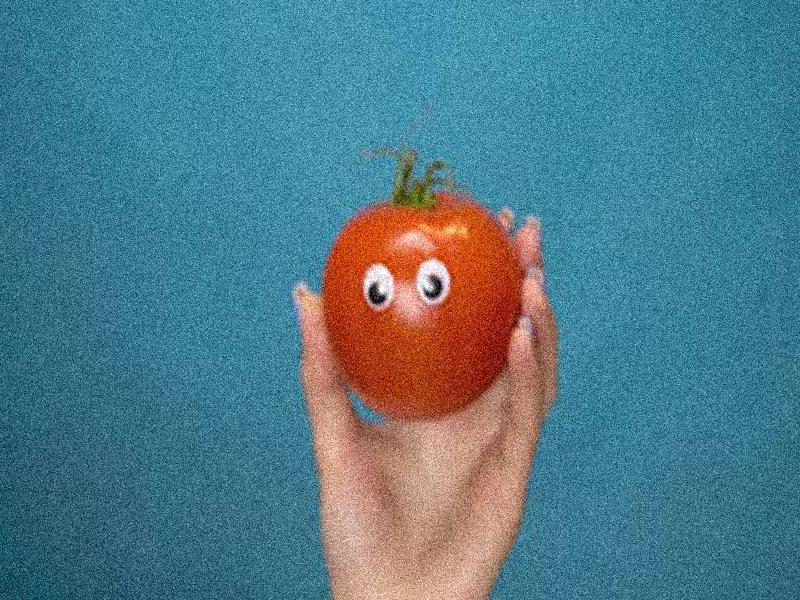Tomato: (320, 189, 523, 421)
